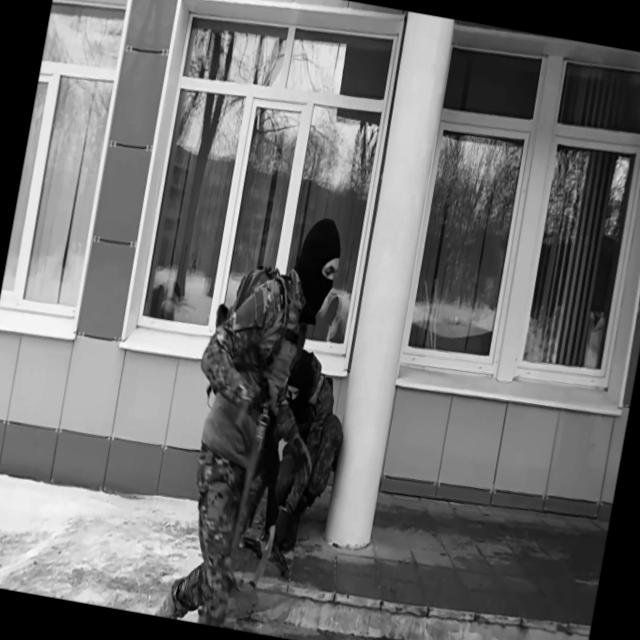gun: (216, 337, 308, 542), (238, 533, 266, 561)
person with a gun: (155, 199, 348, 637), (254, 349, 358, 560)
